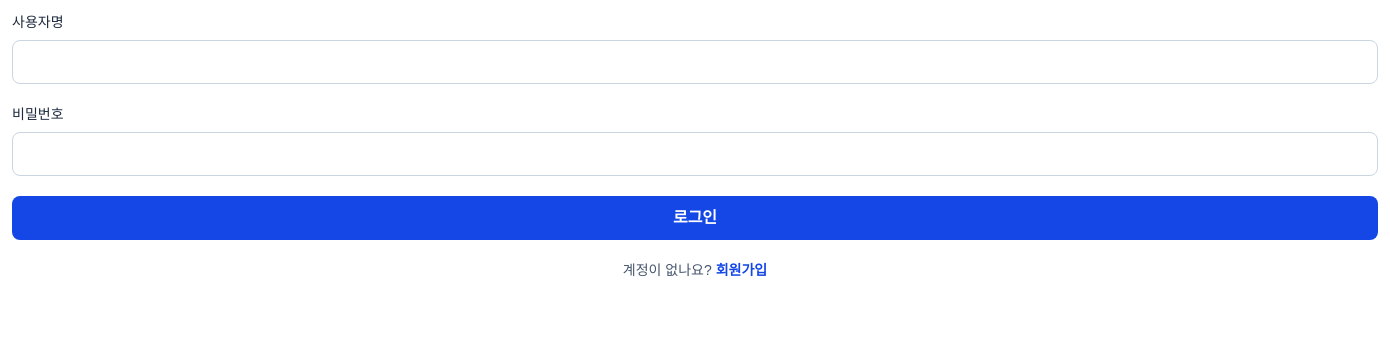
Test: login screen › shows client validation errors without requesting
In the field labelled "사용자명": coordinates (695, 62) [12,40,1378,84], type "ab"
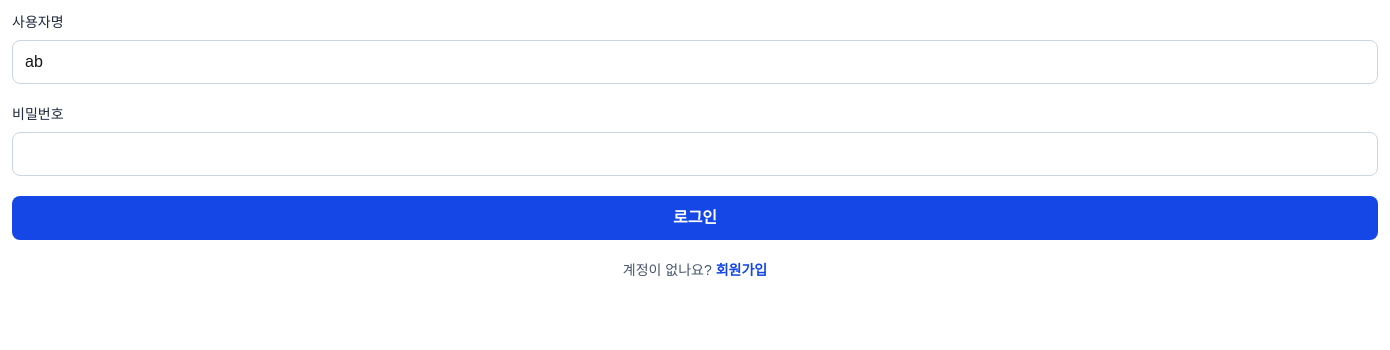
In the password field labelled "비밀번호": coordinates (695, 154) [12,132,1378,176], type "short"
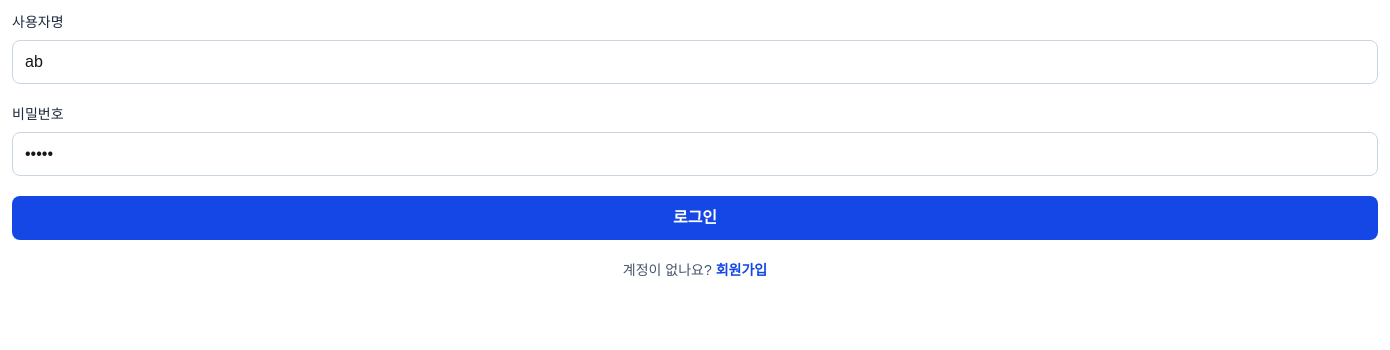
Click the button "로그인": coordinates (695, 218) [12,196,1378,240]
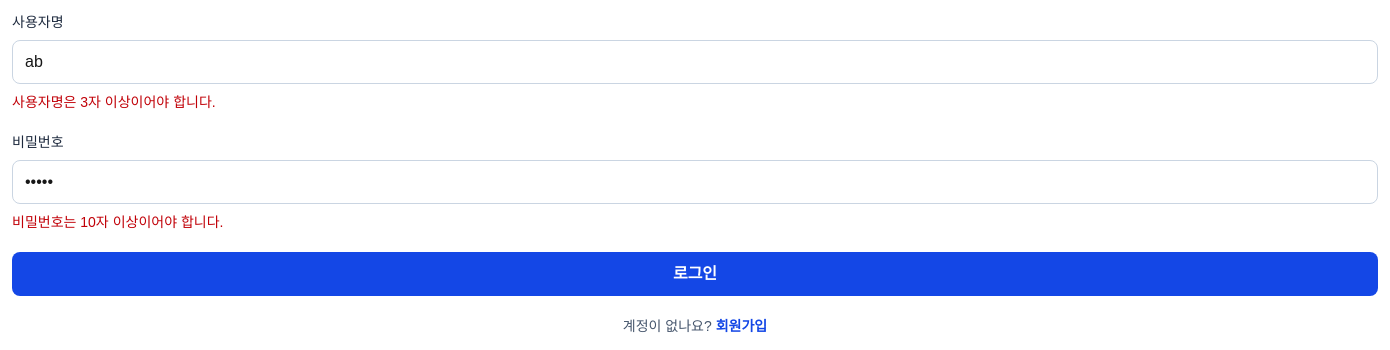
Check: the text "사용자명은 3자 이상이어야 합니다." is shown, box [12,94,216,110]
Check: the text "비밀번호는 10자 이상이어야 합니다." is shown, box [12,214,224,230]
